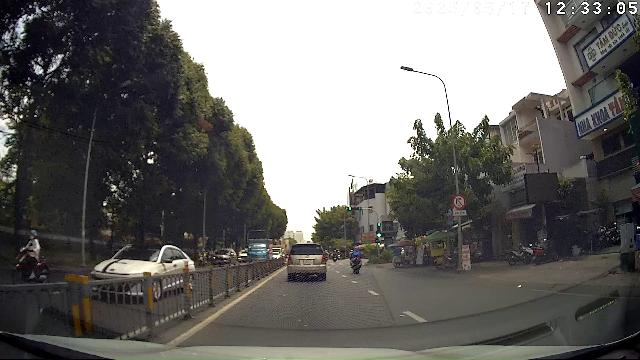103b-cam-oto-re-phai: (452, 194, 467, 209)
